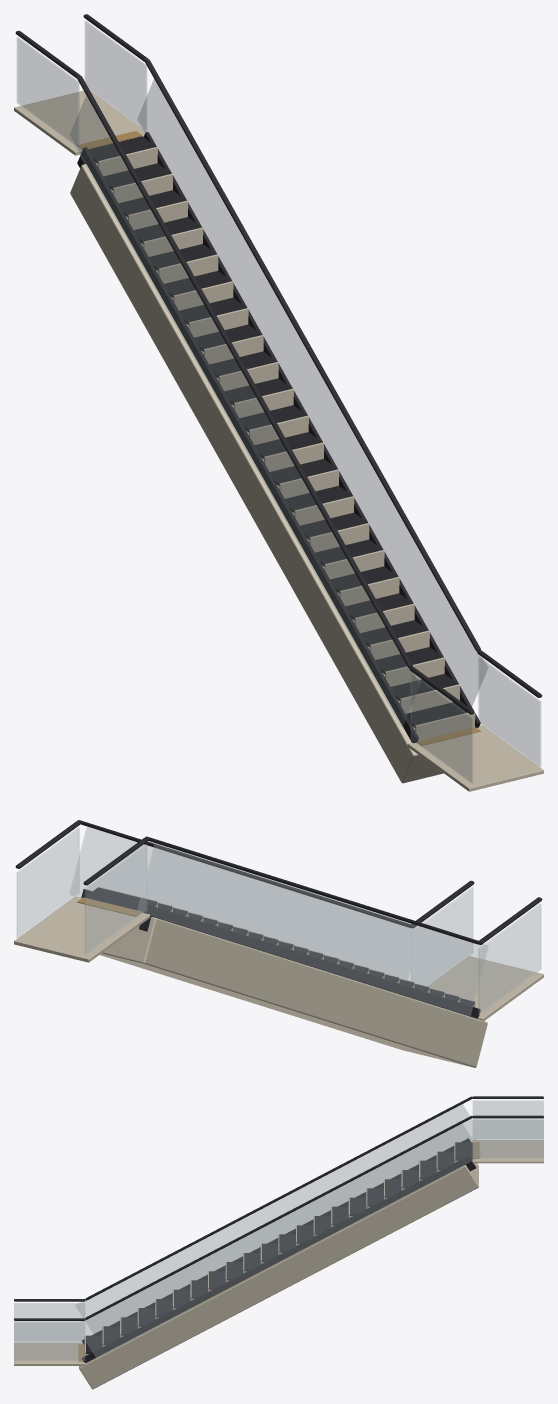
Rendered from escalator.glb.
3 views of the same model, one above another, from view 1: azimuth 30°, elevation 25°; view 2: azimuth 150°, elevation 25°; view 3: azimuth 270°, elevation 25° (orthographic). The views are drawn at different scales.
Visible parts, largest first — view 1: esc_glass_-1, esc_glass_1, esc_truss, esc_skirt_-1, esc_land_btm, esc_glass_top_-1, esc_glass_btm_1, esc_glass_btm_-1, esc_glass_top_1, esc_land_top, esc_rail_-1, esc_rail_1 (+23 smaller); view 2: esc_glass_-1, esc_truss, esc_glass_1, esc_land_top, esc_glass_btm_-1, esc_glass_top_1, esc_glass_top_-1, esc_skirt_-1, esc_land_btm, esc_glass_btm_1, esc_rail_-1, esc_rail_1 (+6 smaller); view 3: esc_glass_1, esc_glass_-1, esc_truss, esc_skirt_1, esc_glass_btm_1, esc_glass_top_1, esc_glass_top_-1, esc_glass_btm_-1, esc_land_btm, esc_land_top, esc_rail_-1, esc_rail_1 (+1 smaller).
Part boxes in pixels (box(x1,y1,x2,y2)): esc_glass_-1: box(69, 95, 420, 726); esc_glass_1: box(137, 79, 488, 706); esc_truss: box(70, 163, 481, 783); esc_skirt_-1: box(77, 147, 418, 743); esc_land_btm: box(407, 725, 543, 791); esc_glass_top_-1: box(17, 37, 79, 147); esc_glass_btm_1: box(478, 657, 540, 767); esc_glass_btm_-1: box(411, 673, 472, 783); esc_glass_top_1: box(85, 20, 146, 130); esc_land_top: box(14, 90, 146, 155); esc_rail_-1: box(77, 75, 412, 668); esc_rail_1: box(145, 59, 480, 651); esc_glass_-1: box(137, 843, 488, 1015); esc_truss: box(100, 917, 487, 1067); esc_glass_1: box(69, 826, 415, 979); esc_land_top: box(14, 896, 150, 962); esc_glass_btm_-1: box(478, 904, 540, 1014); esc_glass_top_1: box(17, 827, 79, 937); esc_glass_top_-1: box(85, 844, 146, 954); esc_skirt_-1: box(139, 904, 480, 1018); esc_land_btm: box(428, 956, 543, 1021); esc_glass_btm_1: box(411, 887, 472, 985); esc_rail_-1: box(145, 836, 480, 944); esc_rail_1: box(77, 820, 412, 927); esc_glass_1: box(75, 1123, 482, 1357); esc_glass_-1: box(75, 1104, 476, 1333); esc_truss: box(79, 1160, 478, 1389); esc_skirt_1: box(81, 1156, 476, 1363); esc_glass_btm_1: box(14, 1322, 84, 1360); esc_glass_top_1: box(473, 1120, 543, 1158); esc_glass_top_-1: box(473, 1100, 543, 1138); esc_glass_btm_-1: box(14, 1303, 84, 1341); esc_land_btm: box(14, 1342, 85, 1365); esc_land_top: box(472, 1140, 543, 1163); esc_rail_-1: box(85, 1096, 472, 1300); esc_rail_1: box(85, 1115, 472, 1319).
Size of the model in its own units: 1.13 by 6.74 by 11.86.
